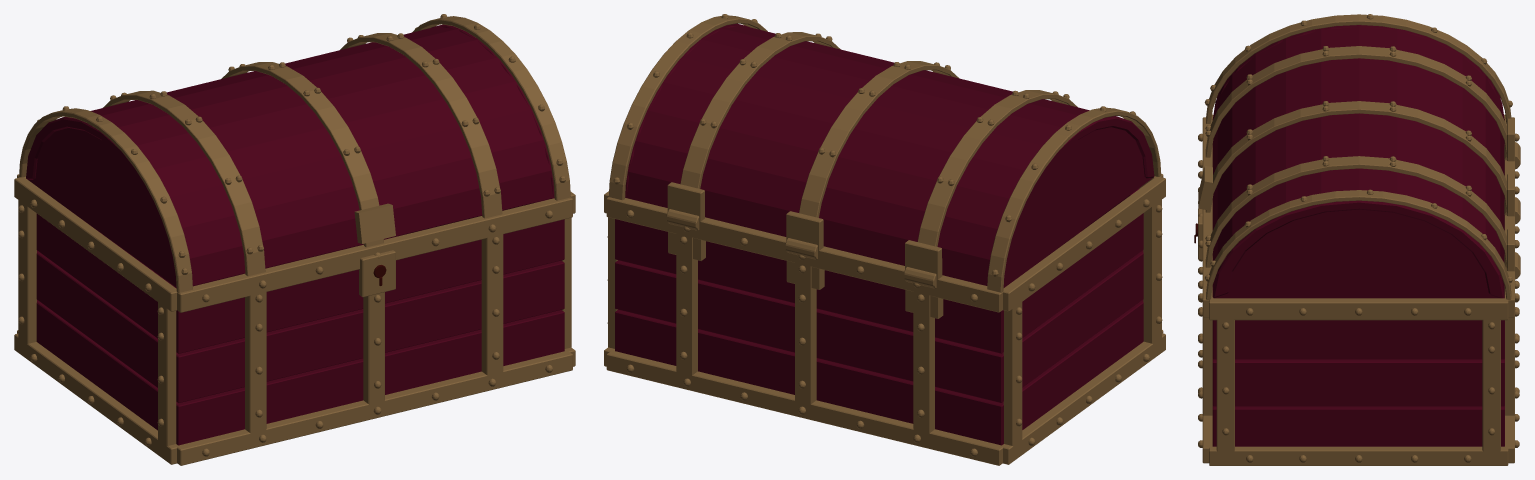
Rendered from Chest.fbx.
3 renders of one model, left to right at view 1: azimuth 30°, elevation 25°; view 2: azimuth 150°, elevation 25°; view 3: azimuth 270°, elevation 25°, orthographic. The views are drawn at different scales.
Visible parts, largest first — view 1: Cofre_Base, Cofre_Tapa, Cofre_Flejes_Tapa, Cofre_Tapa_Laterales, Cofre_Flejes_Laterales_Tapa, Cofre_Cierre_Tapa, Cofre_Remaches_Tapa; view 2: Cofre_Base, Cofre_Tapa, Cofre_Flejes_Tapa, Cofre_Tapa_Laterales, Cofre_Flejes_Laterales_Tapa, Cofre_Bisagras_Hojas_Tapa, Cofre_Remaches_Tapa; view 3: Cofre_Base, Cofre_Tapa, Cofre_Tapa_Laterales, Cofre_Flejes_Tapa, Cofre_Flejes_Laterales_Tapa, Cofre_Bisagras_Hojas_Tapa, Cofre_Remaches_Tapa, Cofre_Remaches_Laterales_Tapa, Cofre_Cierre_Tapa.
Part boxes in pixels (x1=…): Cofre_Base: x1=14, y1=174, x2=575, y2=465; Cofre_Tapa: x1=26, y1=24, x2=553, y2=285; Cofre_Flejes_Tapa: x1=103, y1=33, x2=502, y2=276; Cofre_Tapa_Laterales: x1=28, y1=24, x2=554, y2=287; Cofre_Flejes_Laterales_Tapa: x1=19, y1=16, x2=570, y2=292; Cofre_Cierre_Tapa: x1=354, y1=203, x2=395, y2=243; Cofre_Remaches_Tapa: x1=110, y1=33, x2=500, y2=254; Cofre_Base: x1=604, y1=174, x2=1165, y2=465; Cofre_Tapa: x1=626, y1=24, x2=1154, y2=287; Cofre_Flejes_Tapa: x1=680, y1=32, x2=1077, y2=246; Cofre_Tapa_Laterales: x1=625, y1=23, x2=1152, y2=287; Cofre_Flejes_Laterales_Tapa: x1=608, y1=15, x2=1161, y2=292; Cofre_Bisagras_Hojas_Tapa: x1=667, y1=182, x2=942, y2=281; Cofre_Remaches_Tapa: x1=699, y1=33, x2=1069, y2=185; Cofre_Base: x1=1194, y1=114, x2=1520, y2=465; Cofre_Tapa: x1=1212, y1=26, x2=1504, y2=298; Cofre_Tapa_Laterales: x1=1212, y1=25, x2=1504, y2=298; Cofre_Flejes_Tapa: x1=1205, y1=46, x2=1506, y2=267; Cofre_Flejes_Laterales_Tapa: x1=1206, y1=14, x2=1511, y2=299; Cofre_Bisagras_Hojas_Tapa: x1=1507, y1=118, x2=1514, y2=271; Cofre_Remaches_Tapa: x1=1205, y1=46, x2=1471, y2=246; Cofre_Remaches_Laterales_Tapa: x1=1204, y1=14, x2=1512, y2=282; Cofre_Cierre_Tapa: x1=1198, y1=166, x2=1212, y2=209.
Bounding box in the file's own units: 342 × 225 × 245.
